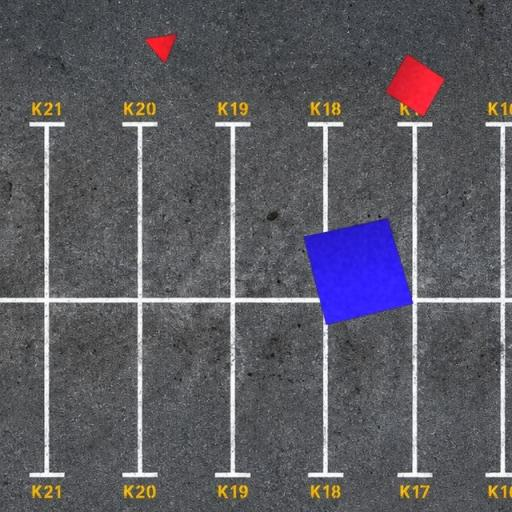BLUE_SQUARE: (304, 218, 414, 326)
RED_SQUARE: (384, 54, 446, 118)
